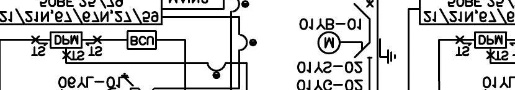115_3ways_ds_w_motor: (317, 31, 396, 65)
BCU: (126, 30, 157, 50)
DPM: (49, 31, 83, 49), (474, 31, 507, 49)
